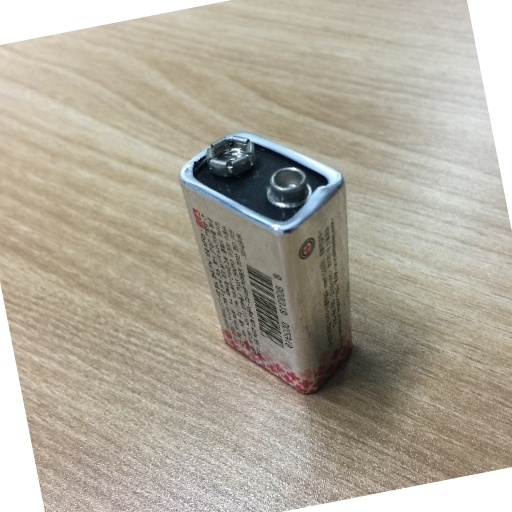Battery_3: (168, 113, 377, 415)
